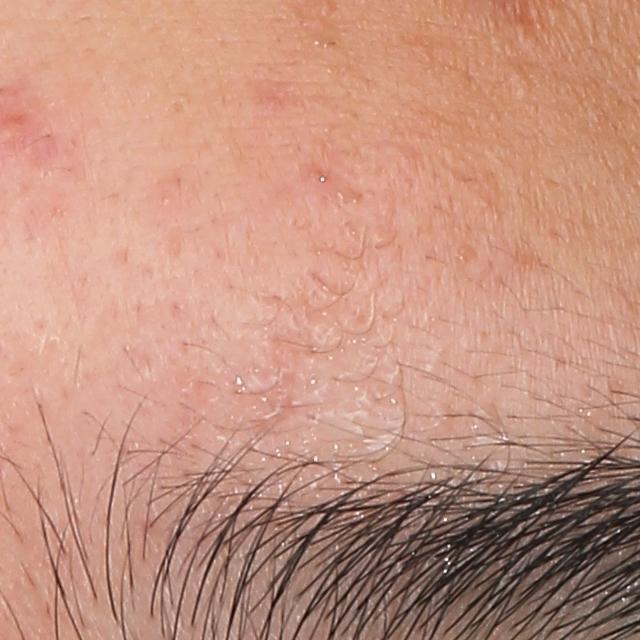comedo: (170, 97, 187, 115)
